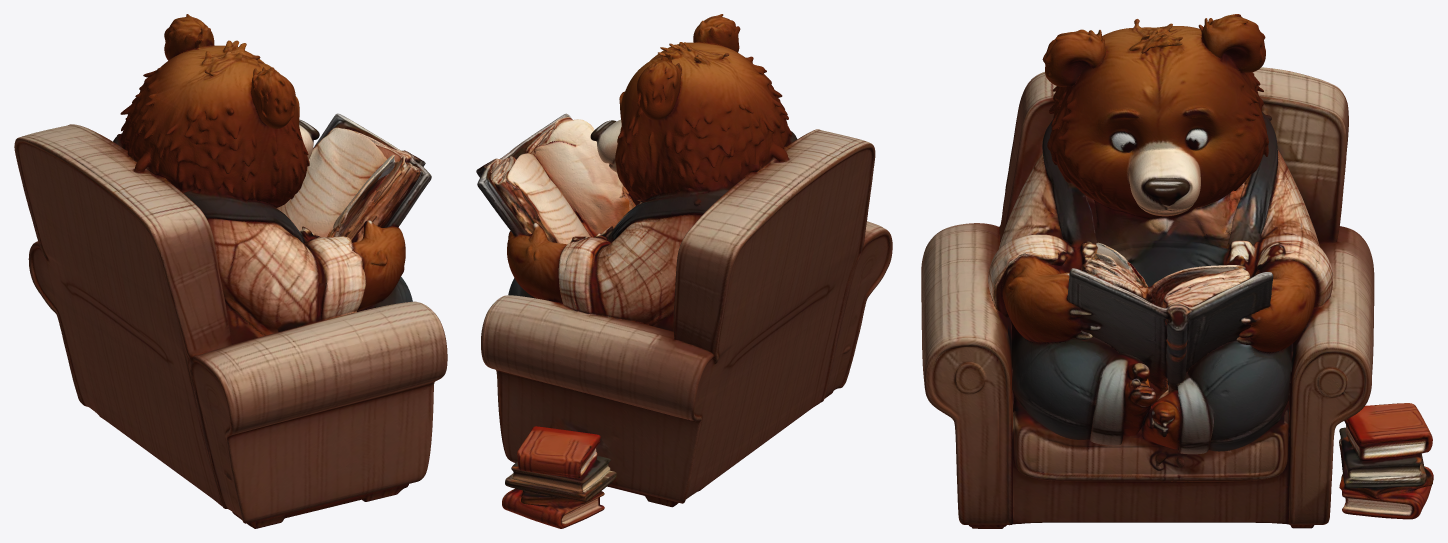
Rendered from bear.glb.
The picture shows the model from 3 angles, left to right: view 1: azimuth 30°, elevation 25°; view 2: azimuth 150°, elevation 25°; view 3: azimuth 270°, elevation 25°; orthographic projection. The views are drawn at different scales.
Visible parts, largest first — view 1: tripo_node_a7077411-e23f-4930-9e7c-37ba6c2073fb; view 2: tripo_node_a7077411-e23f-4930-9e7c-37ba6c2073fb; view 3: tripo_node_a7077411-e23f-4930-9e7c-37ba6c2073fb.
Part boxes in pixels (x1=…): tripo_node_a7077411-e23f-4930-9e7c-37ba6c2073fb: x1=14, y1=14, x2=447, y2=528; tripo_node_a7077411-e23f-4930-9e7c-37ba6c2073fb: x1=476, y1=14, x2=892, y2=528; tripo_node_a7077411-e23f-4930-9e7c-37ba6c2073fb: x1=921, y1=14, x2=1433, y2=528.
Size of the model in its own units: 0.8586 by 0.995 by 1.
Materials: 1 (1 with a texture image).
